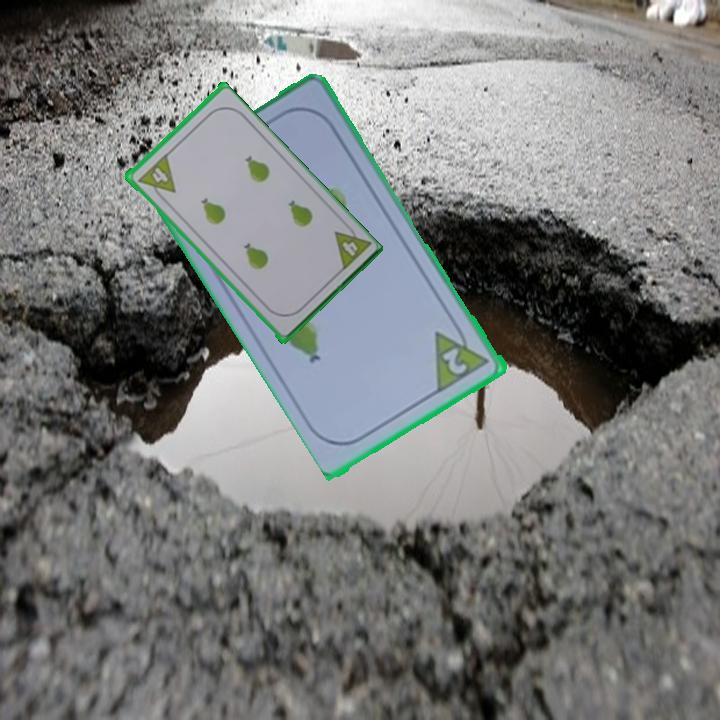2p: (431, 318, 494, 396)
4p: (145, 153, 178, 193), (338, 237, 360, 259)
